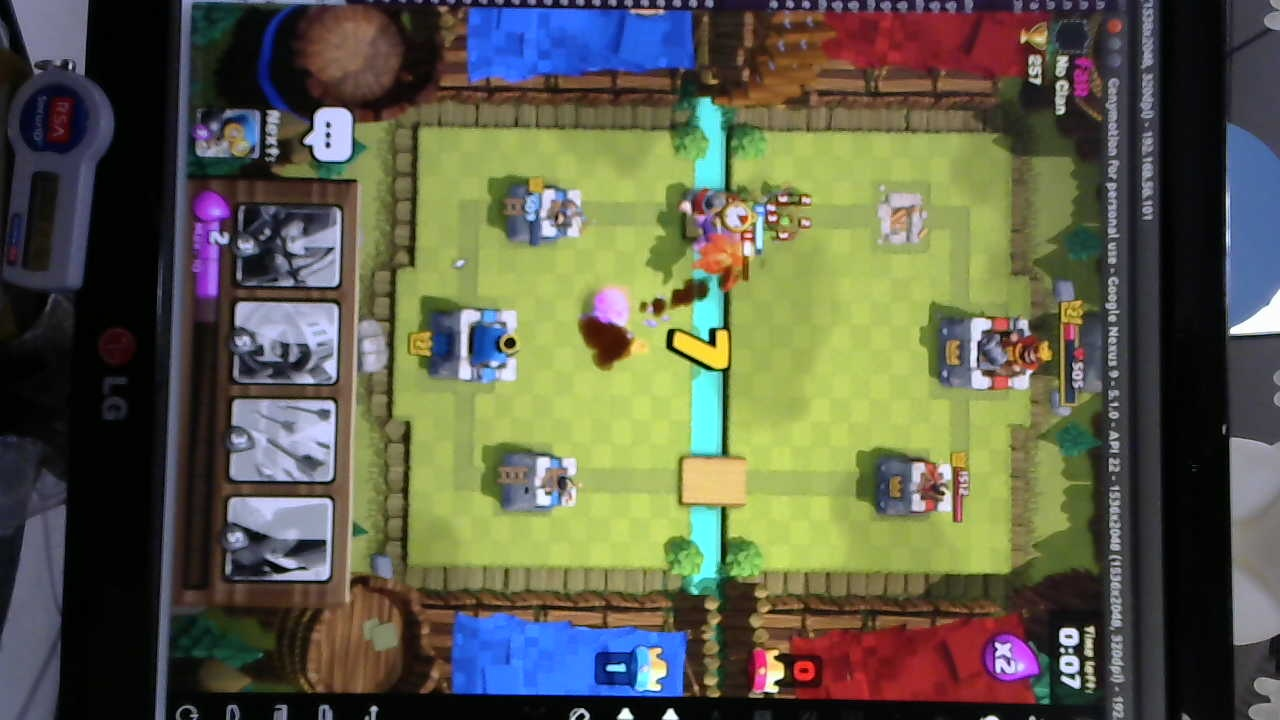arena: (497, 447, 579, 515), (506, 183, 585, 247)
darena: (871, 182, 930, 251)
dragon: (691, 235, 751, 280)
earena: (876, 451, 953, 519)
eking: (932, 312, 1038, 392)
king: (428, 298, 525, 389)
knight: (676, 182, 732, 223)
speargoblins: (757, 187, 808, 246)
